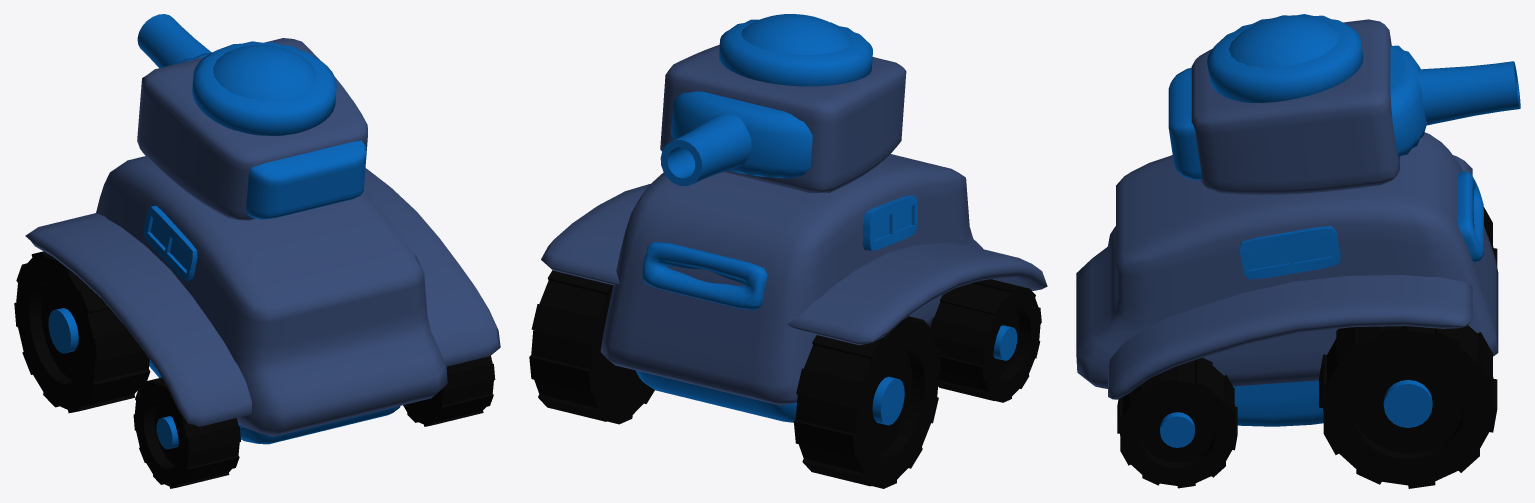
Rendered from ExplodedTank.fbx.
The picture shows the model from 3 angles, left to right: view 1: azimuth 30°, elevation 25°; view 2: azimuth 150°, elevation 25°; view 3: azimuth 270°, elevation 25°; orthographic projection. The views are drawn at different scales.
Visible parts, largest first — view 1: tank.009, tank.006, tank.002, tank.008, tank.003, tank.010, tank.004, tank.007; view 2: tank.009, tank.006, tank.008, tank.007, tank.002, tank.004, tank.010, tank.003; view 3: tank.009, tank.006, tank.007, tank.003, tank.004.
Boxes of the visible parts, x1,y1,x2,y2 form: tank.009: (96,156,495,449); tank.006: (137,38,367,220); tank.002: (25,213,252,426); tank.008: (14,251,150,413); tank.003: (363,168,500,366); tank.010: (133,377,240,488); tank.004: (137,14,211,68); tank.007: (48,308,78,353); tank.009: (600,154,1017,422); tank.006: (660,14,906,193); tank.008: (793,316,940,488); tank.007: (529,270,904,425); tank.002: (787,242,1047,345); tank.004: (660,91,812,186); tank.010: (930,279,1041,402); tank.003: (541,184,650,284); tank.009: (1076,132,1498,488); tank.006: (1168,14,1399,194); tank.007: (1319,325,1497,488); tank.003: (1108,275,1472,399); tank.004: (1390,45,1520,157).
Bounding box in the file's own units: 508 × 539 × 564.
